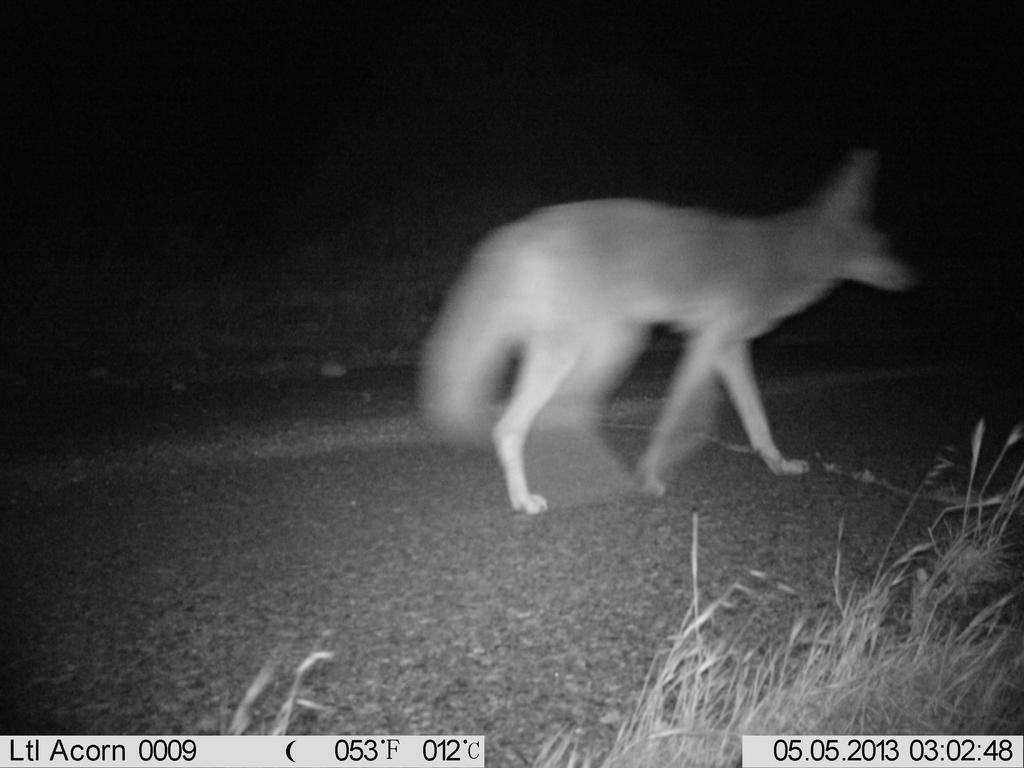coyote: (383, 130, 936, 528)
